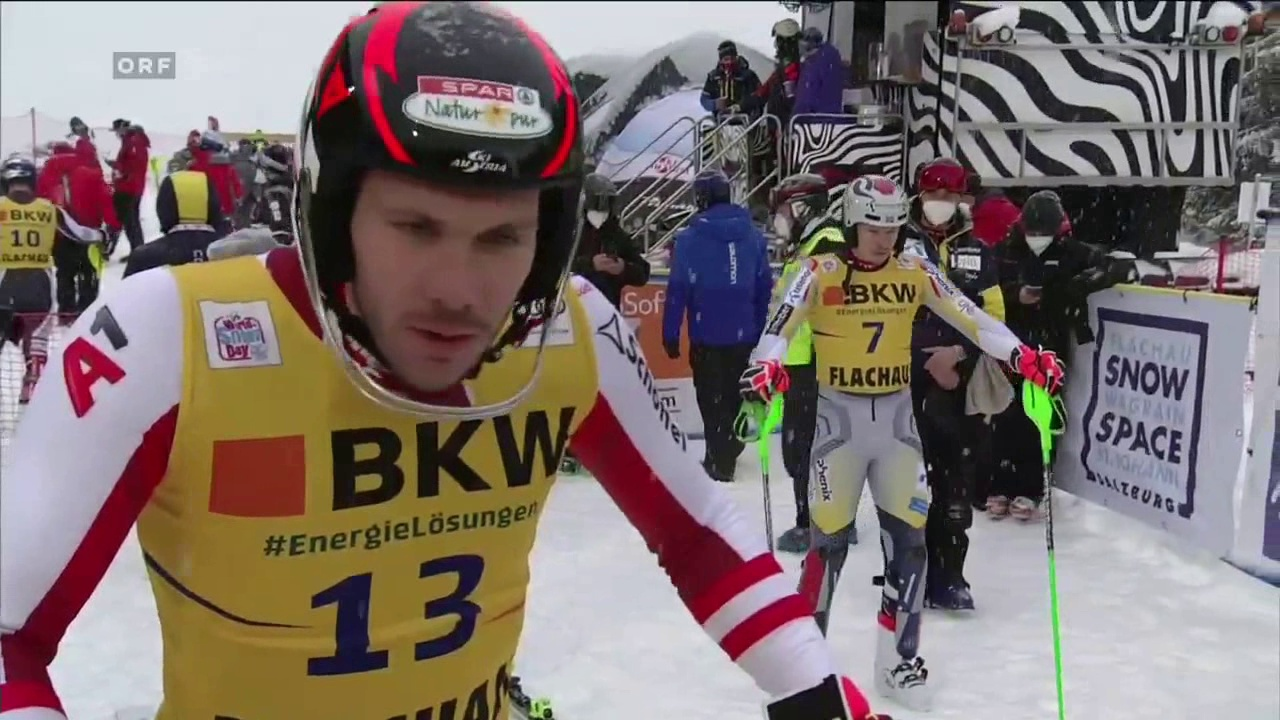a1: (61, 309, 146, 424)
spar: (419, 77, 536, 108)
